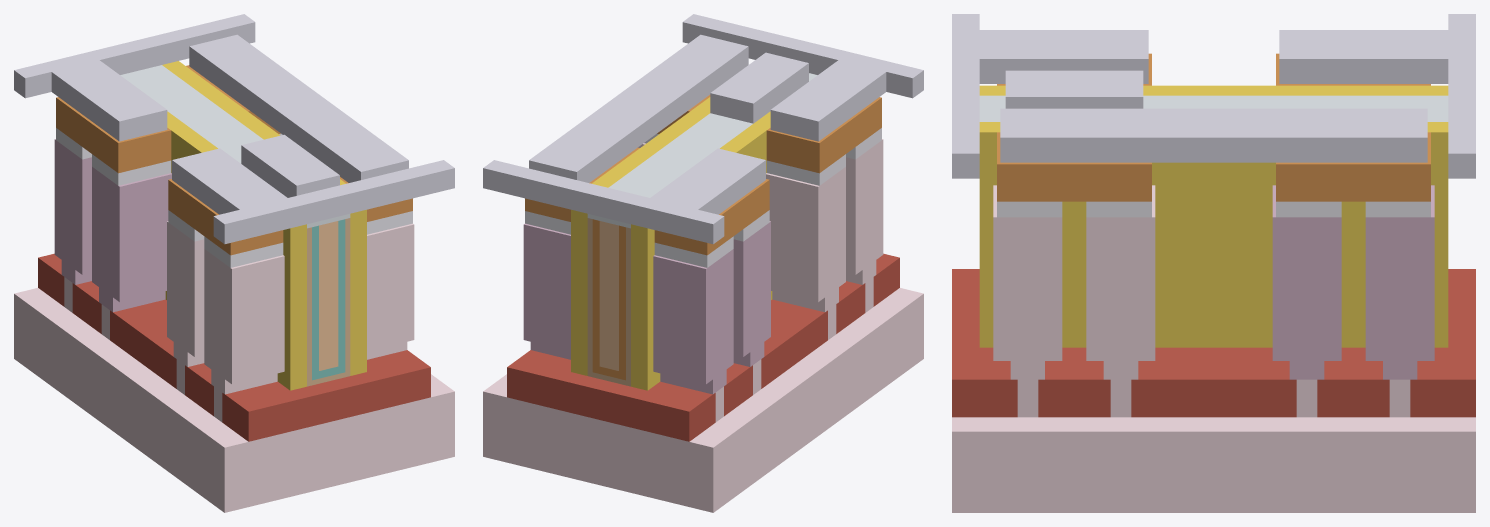
Rendered from inv_fin.glb.
3 renders of one model, left to right at view 1: azimuth 30°, elevation 25°; view 2: azimuth 150°, elevation 25°; view 3: azimuth 270°, elevation 25°, orthographic. The views are drawn at different scales.
Visible parts, largest first — view 1: n_substrate, n_epi_source, p_epi_source, m1_out, m1_gnd, n_sti, m1_vdd, p_substrate, n_epi_drain, p_sti, m1_in, n_spacer_source (+18 smaller); view 2: p_substrate, p_epi_source, n_epi_source, m1_out, m1_vdd, p_sti, m1_gnd, n_substrate, p_epi_drain, m1_in, n_sti, p_spacer_source (+18 smaller); view 3: m1_out, n_substrate, p_substrate, n_epi_drain, p_epi_drain, b_spacers, n_sti, p_sti, m1_vdd, m1_gnd, n_spacer_drain, p_spacer_drain (+17 smaller).
Boxes of the visible parts, x1,y1,x2,y2 form: n_substrate: (126,370,454,512); n_epi_source: (167,221,284,394); p_epi_source: (54,139,171,312); m1_out: (189,34,408,182); m1_gnd: (172,148,454,244); n_sti: (150,335,430,441); m1_vdd: (14,14,255,141); p_substrate: (14,288,135,430); n_epi_drain: (367,223,414,359); p_sti: (38,253,166,359); m1_in: (241,134,339,197); n_spacer_source: (277,224,306,390); p_substrate: (483,370,811,512); p_epi_source: (653,221,770,394); n_epi_source: (766,139,883,312); m1_out: (529,34,748,182); m1_vdd: (483,148,765,244); p_sti: (507,335,787,441); m1_gnd: (682,14,923,141); n_substrate: (802,288,923,430); p_epi_drain: (523,223,570,359); m1_in: (710,52,808,123); n_sti: (771,253,899,359); p_spacer_source: (631,224,660,390); m1_out: (1000,108,1427,162); n_substrate: (952,417,1196,512); p_substrate: (1231,417,1475,512); n_epi_drain: (993,185,1155,379); p_epi_drain: (1272,185,1434,379); b_spacers: (1169,85,1258,347); n_sti: (952,269,1196,417); p_sti: (1231,269,1475,417); m1_vdd: (1279,14,1475,178); m1_gnd: (952,14,1148,178); n_spacer_drain: (979,122,1169,347); p_spacer_drain: (1258,122,1448,347).
Size of the model in its own units: 96 by 115 by 152.
